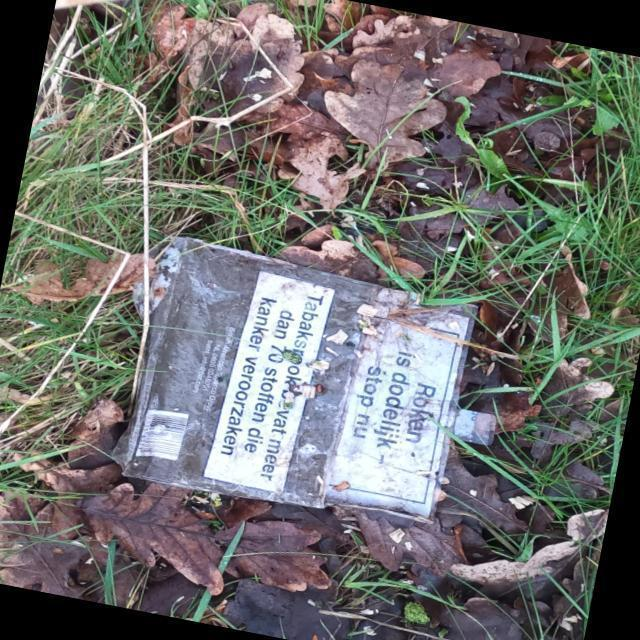Paper: (119, 228, 481, 536)
